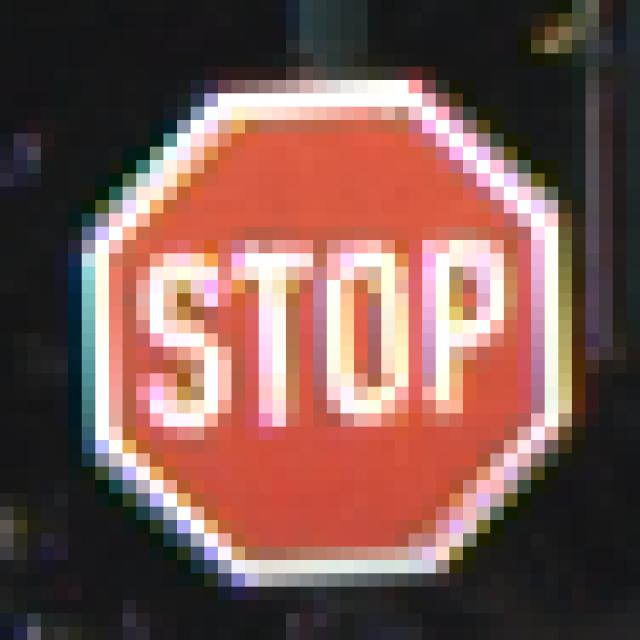STOP: (69, 68, 573, 561)
